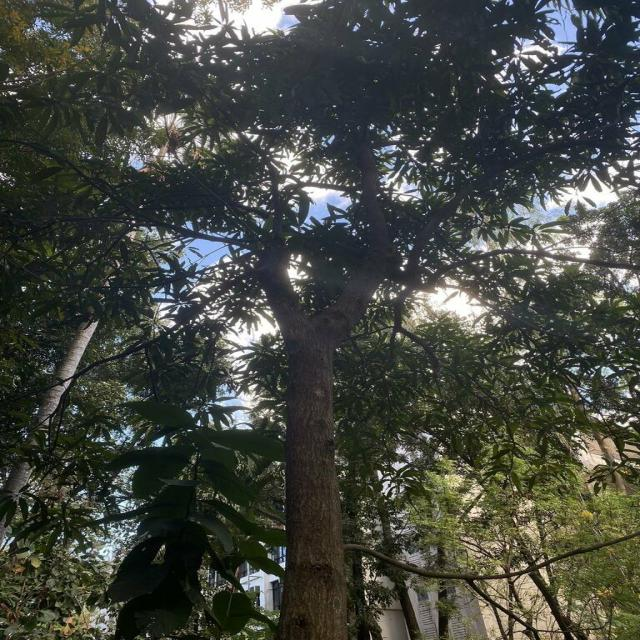Mango-Tree: (23, 11, 640, 563)
